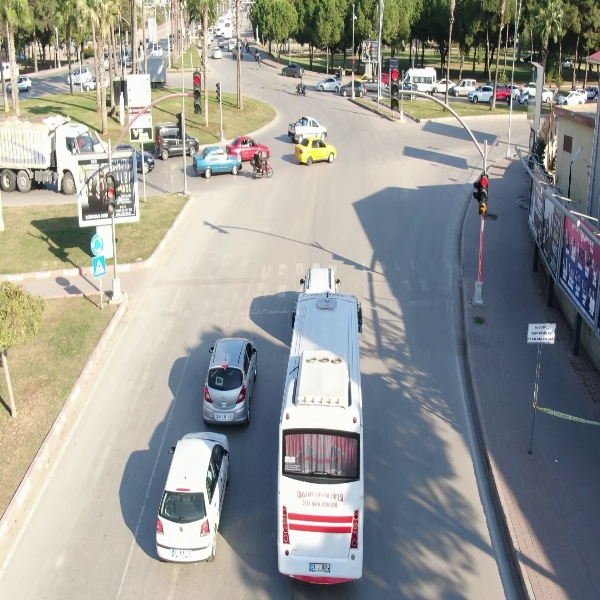car: (153, 430, 231, 563), (199, 335, 257, 430), (191, 145, 244, 179), (293, 135, 338, 165), (467, 84, 496, 106), (66, 64, 93, 85), (339, 80, 368, 97), (279, 61, 306, 78), (315, 77, 343, 93)
